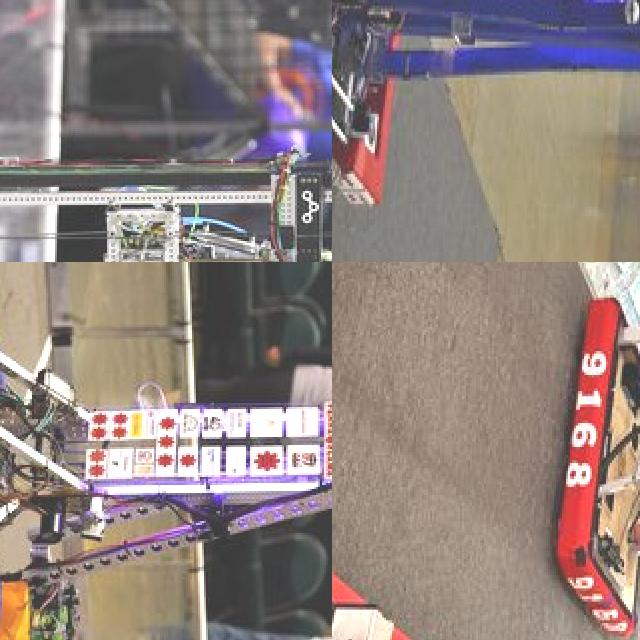FRC-Robots: (0, 262, 332, 640), (332, 0, 640, 262), (0, 33, 332, 262), (536, 262, 640, 640)
